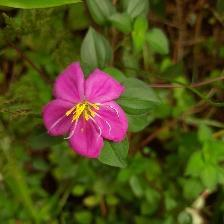malabar melastome: (41, 61, 132, 162)
